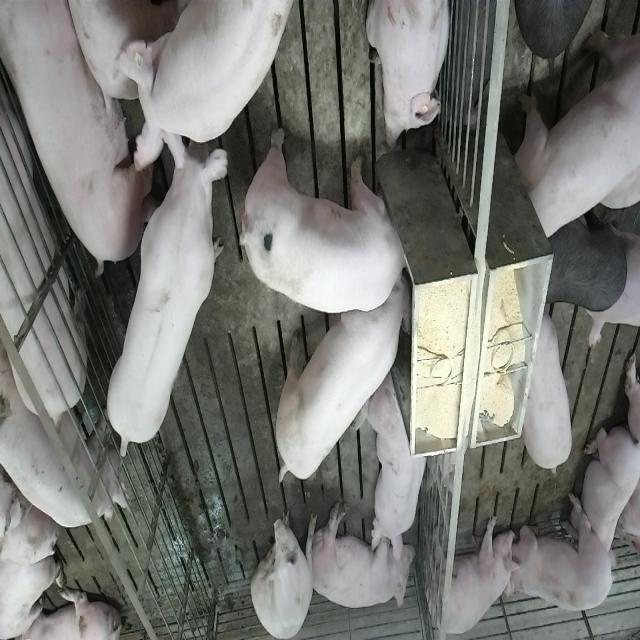Feeding: (244, 123, 416, 315), (272, 274, 412, 488)
Lateral_lying: (3, 1, 155, 274), (308, 500, 416, 612)
Sitting: (252, 501, 316, 637)
Standing: (104, 120, 230, 458), (0, 12, 88, 428), (117, 0, 300, 168), (514, 22, 638, 245), (0, 353, 124, 532), (510, 493, 614, 613), (430, 509, 519, 636), (523, 310, 577, 478), (544, 208, 628, 313)
Sternal_lying: (358, 374, 431, 562), (366, 0, 454, 151), (580, 425, 639, 565)
